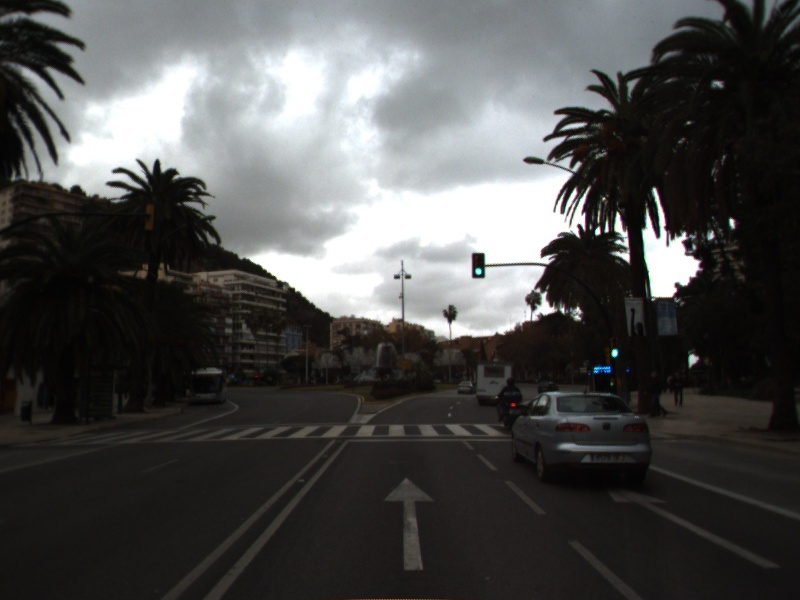STRAIGHT: (606, 482, 781, 570), (381, 474, 439, 573)
